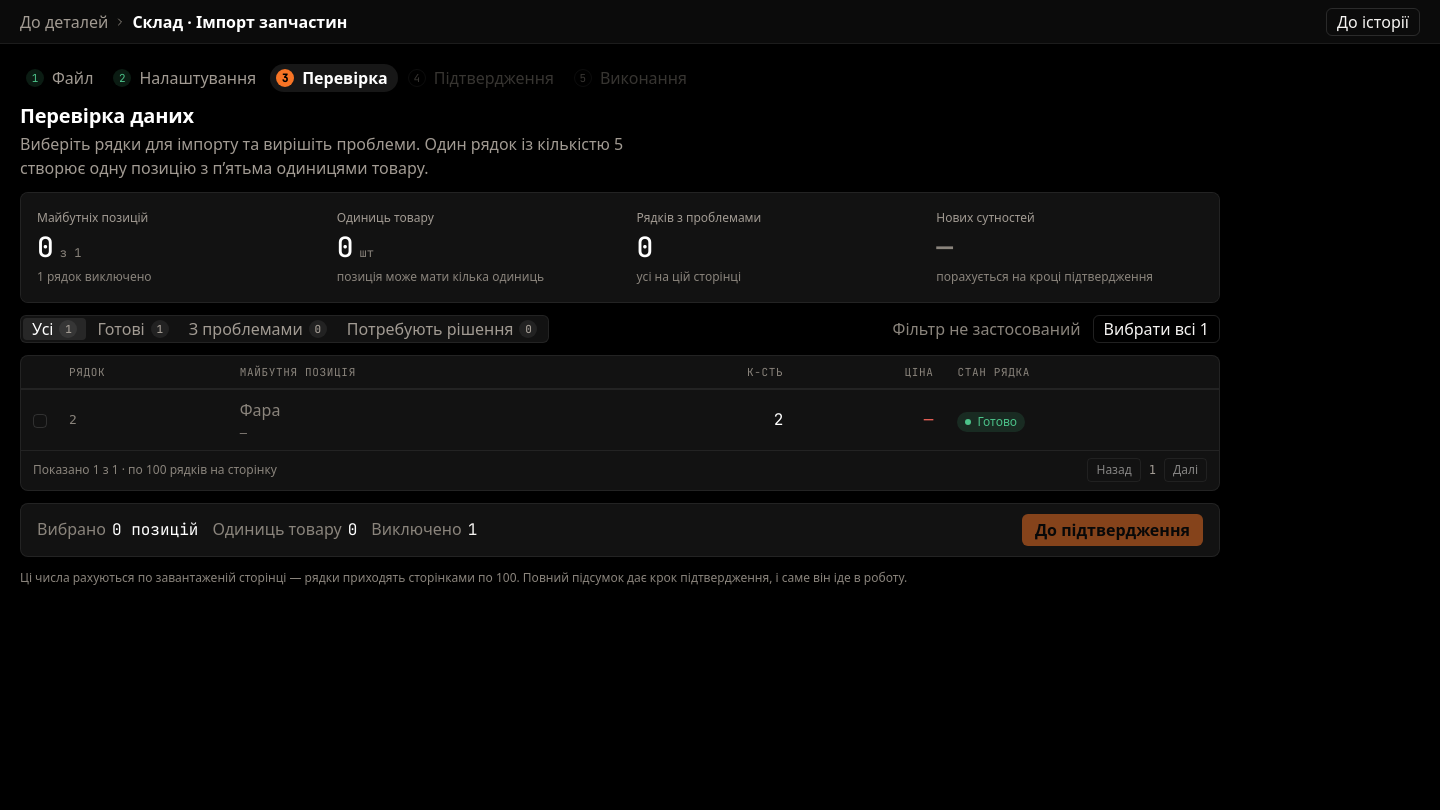
Test: shows the server stale revision error and invalidates confirmation
The width and height of the screenshot is (1440, 810).
Check: the text "Фара" is shown, box [240,398,280,420]
Click the checkbox named "Імпортувати рядок 2". click: point(40, 421)
box: [33,414,47,428]
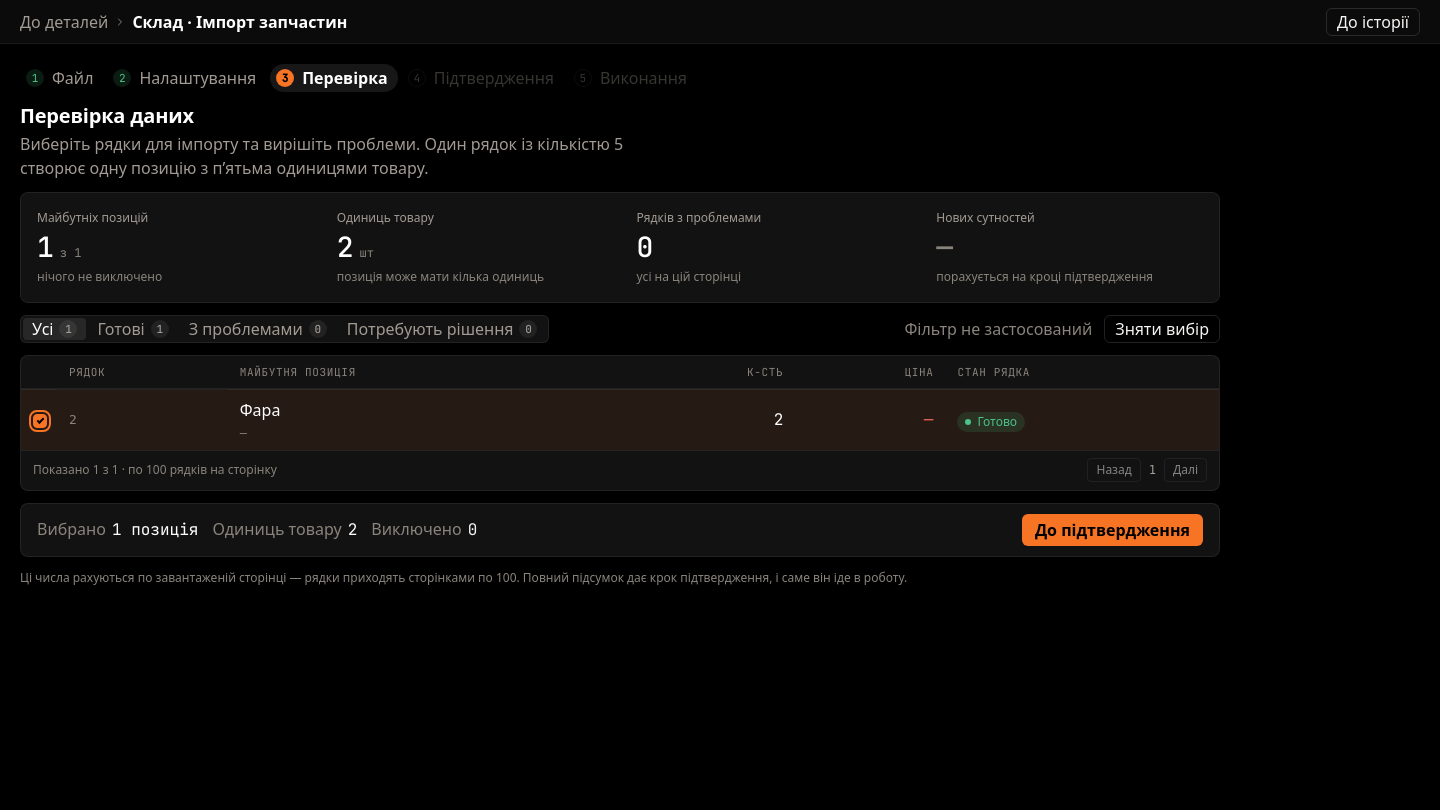
Click the button "До підтвердження". click: point(1112, 530)
box: [1022,514,1203,546]
(page scrolled)
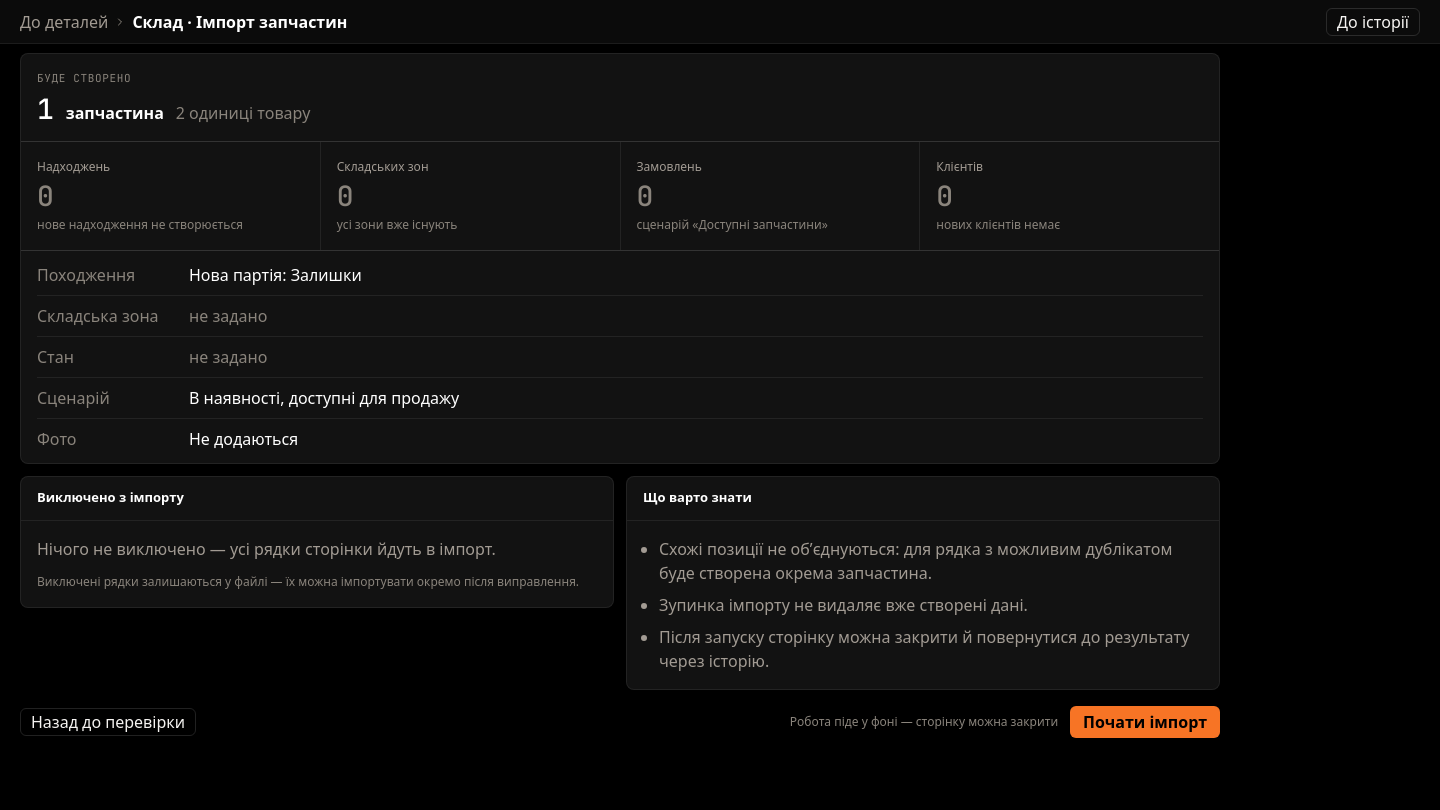
Check: the element "Буде створено" is shown, box [20,53,1220,464]
Click the button "Почати імпорт". click: point(1145, 722)
box: [1070,706,1220,738]
(page scrolled)
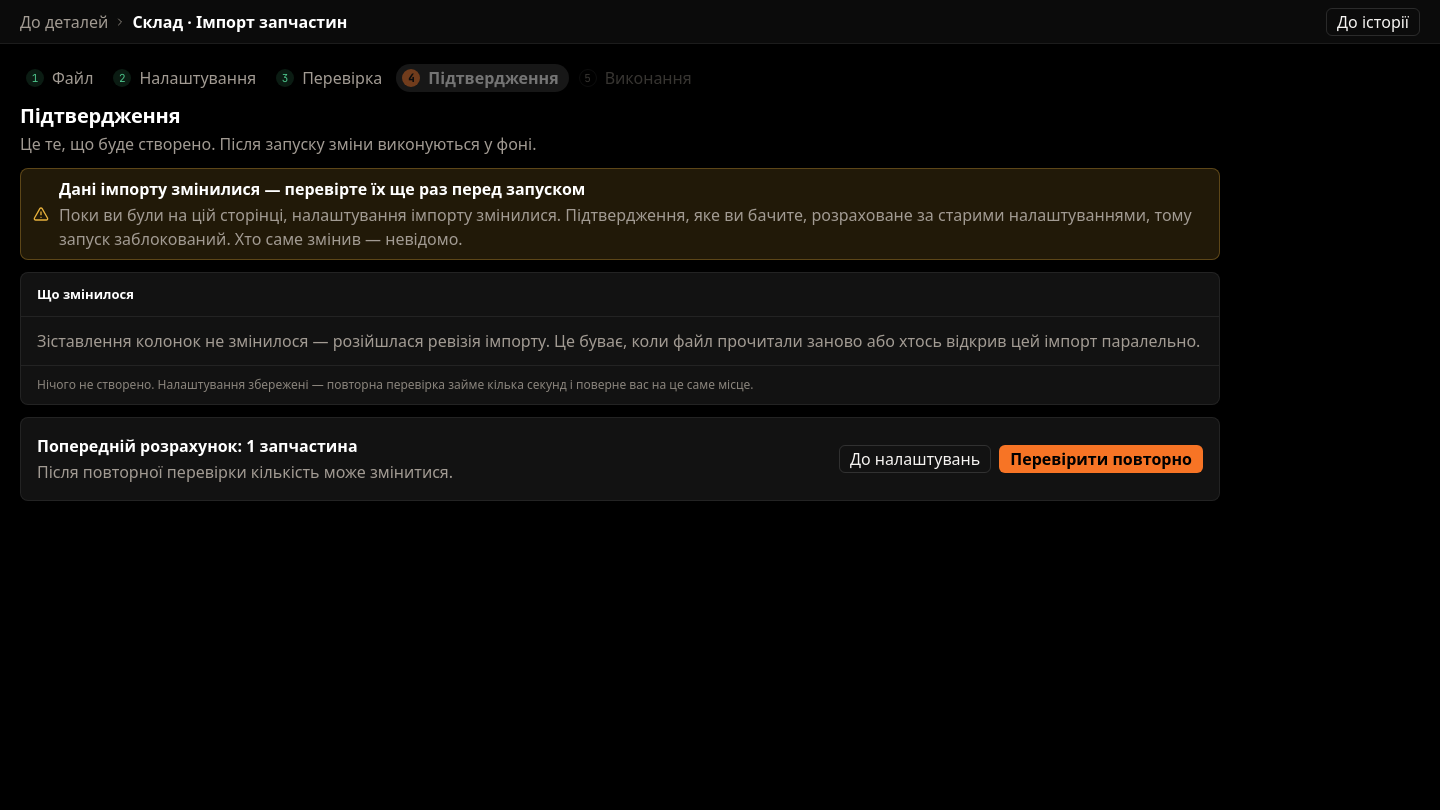
Check: the text "Дані імпорту змінилися — перевірте їх ще раз перед запуском" is shown, box [59,178,585,200]
Check: the button "Почати імпорт" is gone
Check: the element "Що змінилося" is shown, box [20,272,1220,405]
